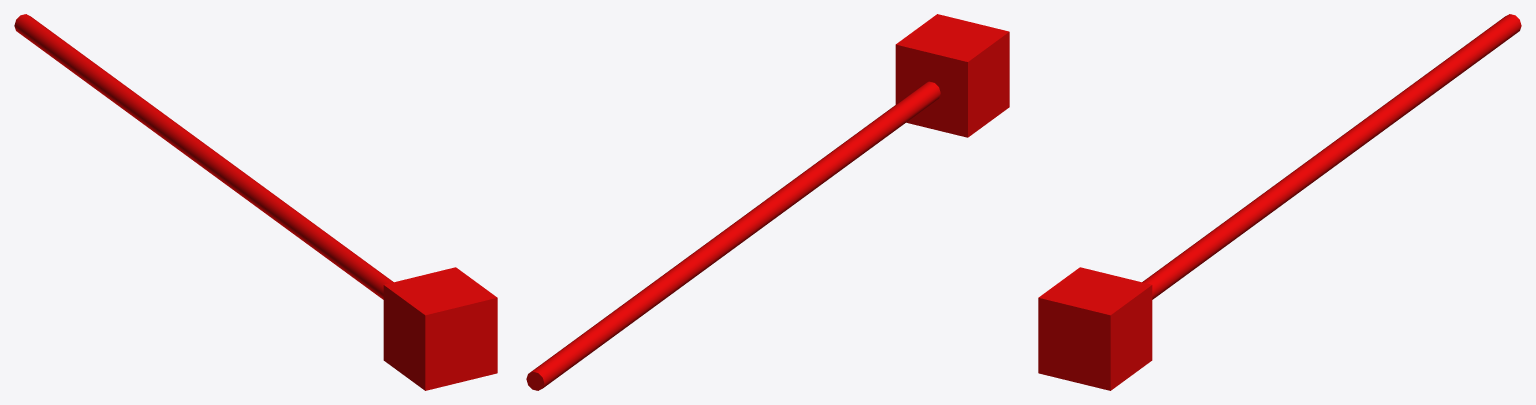
File: Gizmo_Cube_line_X.fbx
3 views of the same model, side by side, from view 1: azimuth 30°, elevation 25°; view 2: azimuth 150°, elevation 25°; view 3: azimuth 330°, elevation 25° (orthographic).
Visible parts, largest first — view 1: Gizmo_cube_Line_X; view 2: Gizmo_cube_Line_X; view 3: Gizmo_cube_Line_X.
Part boxes in pixels (box(x1,y1,x2,y2)): Gizmo_cube_Line_X: box(14, 14, 497, 390); Gizmo_cube_Line_X: box(526, 14, 1009, 390); Gizmo_cube_Line_X: box(1038, 14, 1521, 390).
Bounding box in the file's own units: 2 × 2 × 21.
